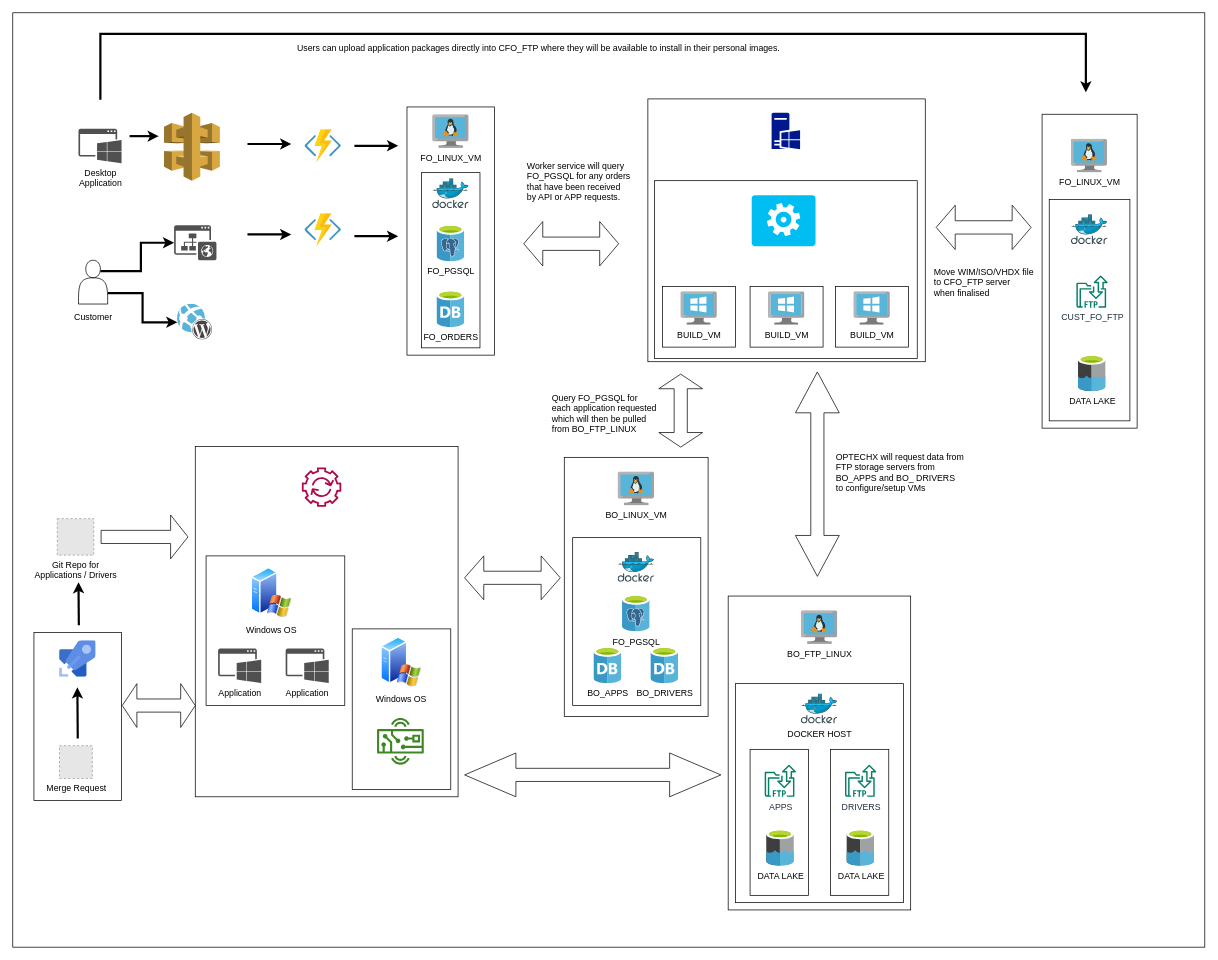
This 1218x960 diagram has some shape labels left out. Grey dashed boxes stand in for pictures. Here are the shapes that lost their labels. From the top down, the box of each, then its label:
(163, 112, 220, 181): api.optechxcom
(771, 112, 800, 149): BO_WIN_HEARTBEAT
(751, 195, 815, 246): OPTECHX
(174, 225, 216, 260): app.optechx.com
(177, 304, 213, 340): www.optechx.com
(301, 467, 341, 506): CRONTAB
(59, 640, 96, 677): Pipeline
(377, 718, 423, 764): Driver Install
